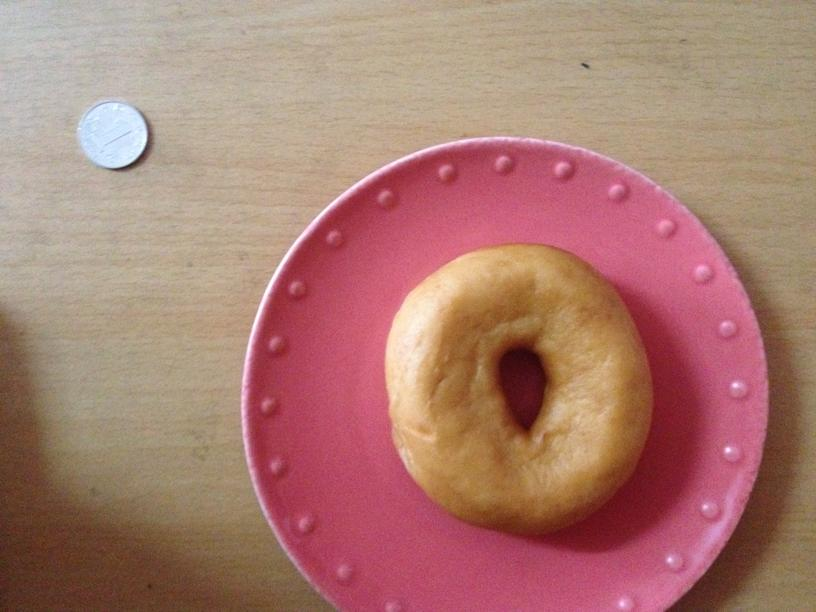coin: (79, 101, 146, 168)
doughnut: (384, 245, 653, 536)
